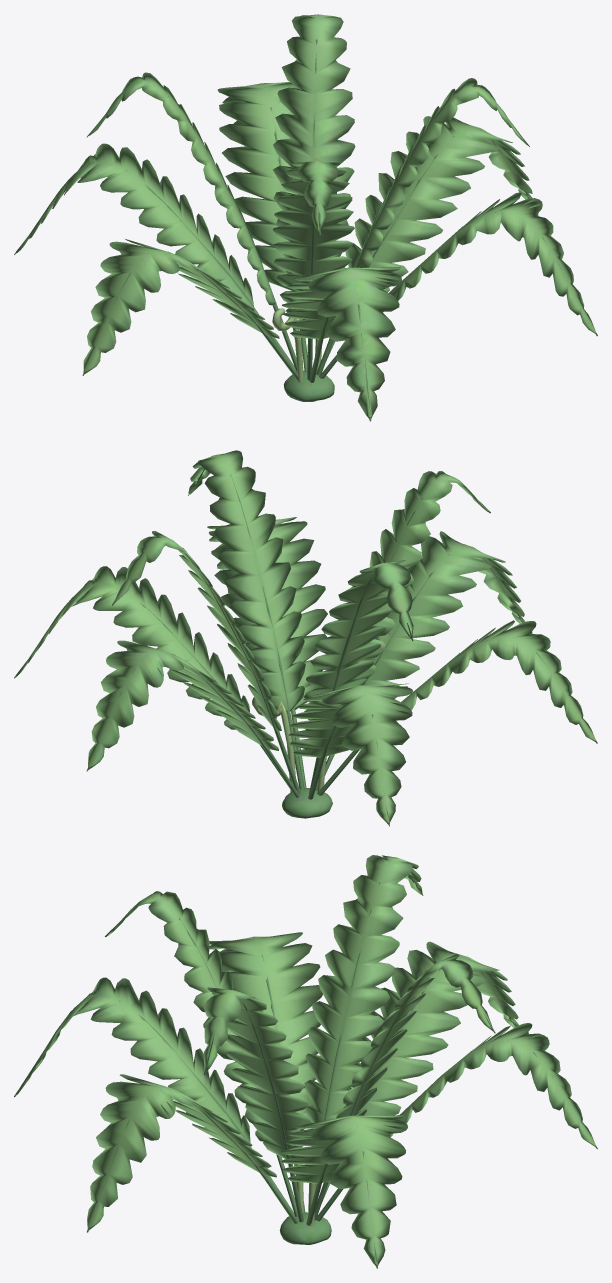
Rendered from fern.glb.
3 renders of one model, top to bottom at view 1: azimuth 30°, elevation 25°; view 2: azimuth 150°, elevation 25°; view 3: azimuth 270°, elevation 25°, orthographic. The views are drawn at different scales.
Visible parts, largest first — view 1: lod0; view 2: lod0; view 3: lod0.
Part boxes in pixels (<box>): lod0: <box>14,14,597,421</box>; lod0: <box>14,450,597,826</box>; lod0: <box>14,855,597,1268</box>.
Size of what is drawn, in the model's own units: 1.41 by 0.7988 by 1.33.
1 material, 1 textured.
